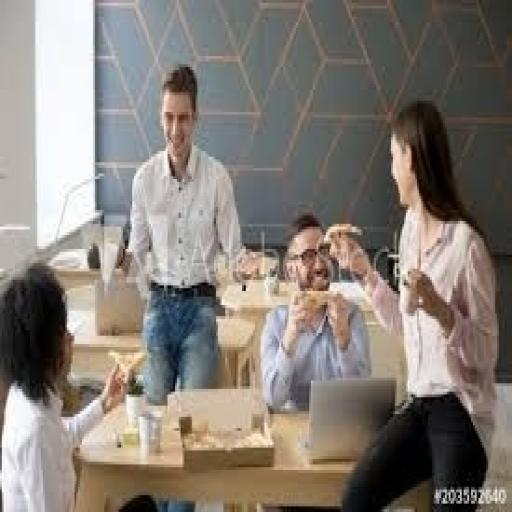eating: (328, 98, 501, 509), (123, 62, 255, 406), (0, 257, 130, 509), (257, 213, 372, 414)
